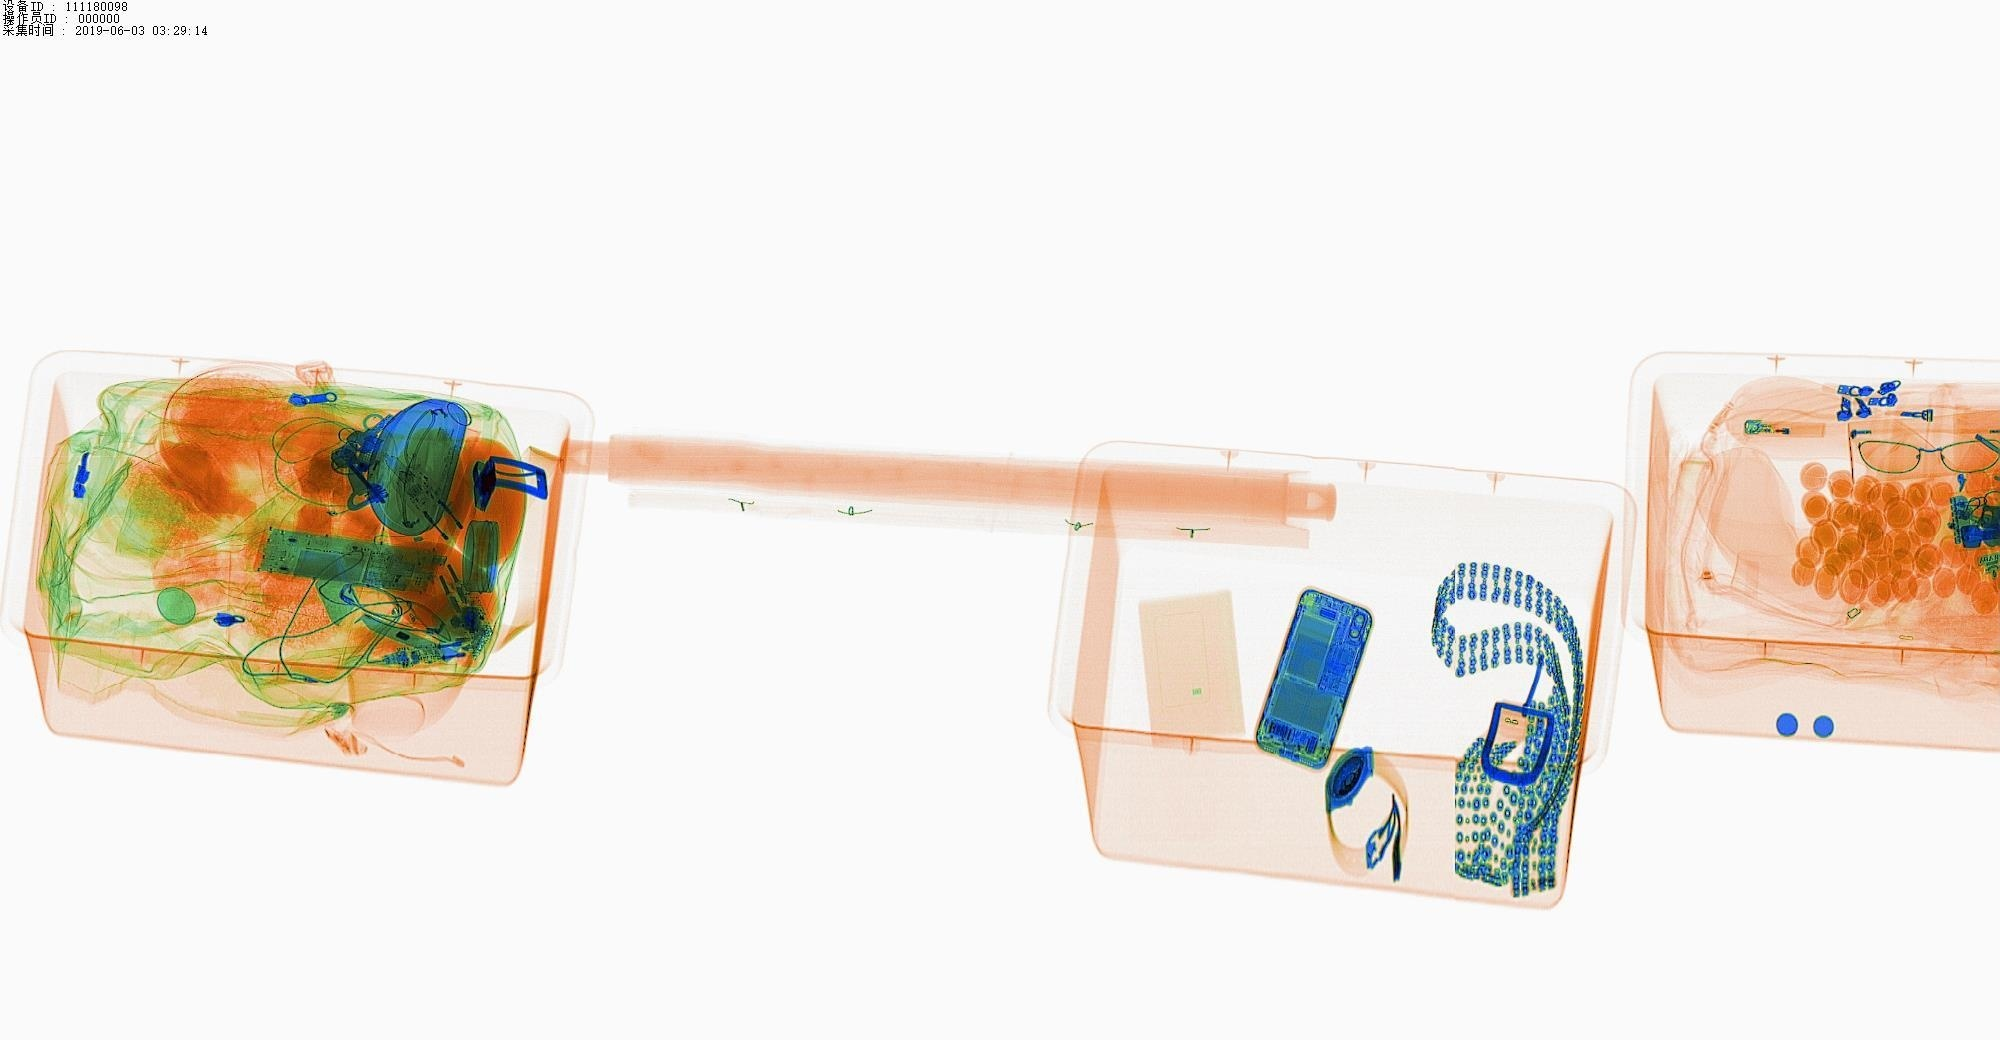NonmetallicFire: (1730, 408, 1843, 458)
